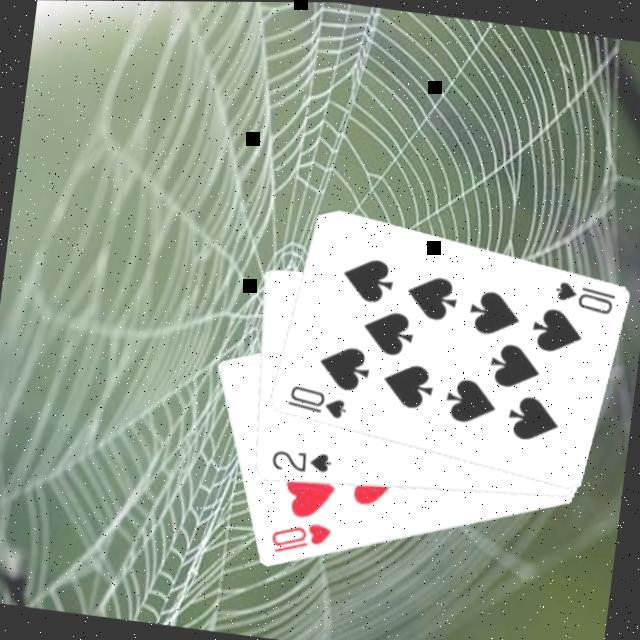10H: (263, 512, 334, 561)
10S: (547, 274, 618, 316), (281, 379, 351, 421)
2S: (266, 441, 335, 478)
